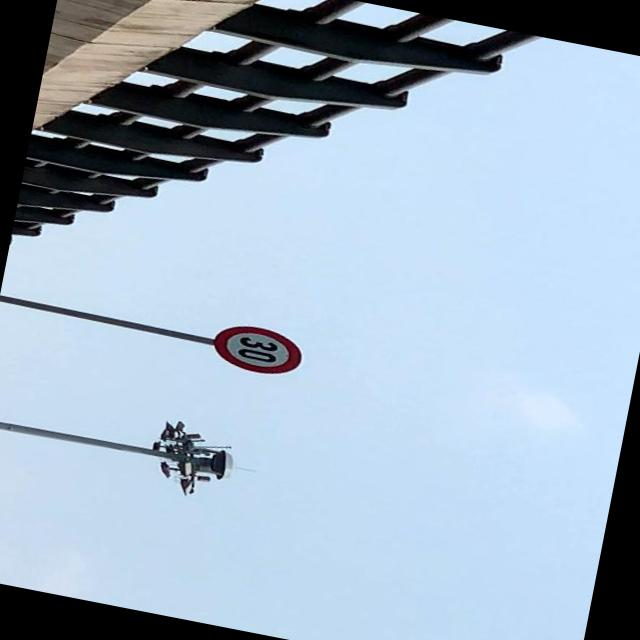P-127: (211, 322, 305, 379)
